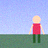person: (29, 15, 44, 43)
